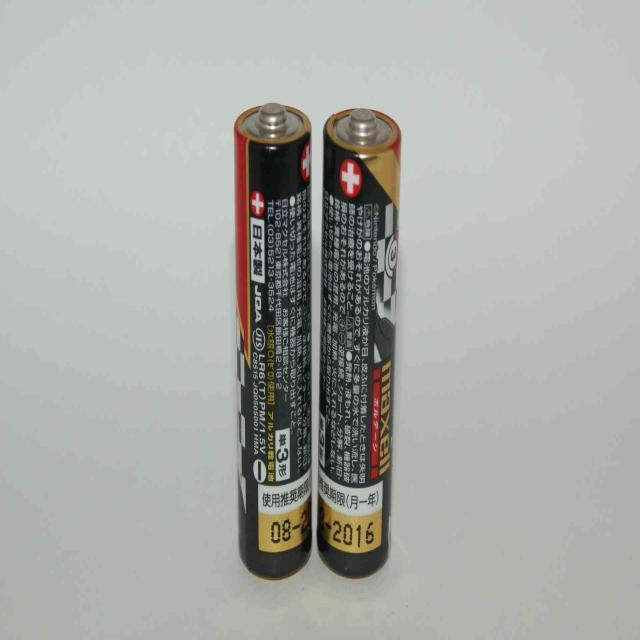Hazard: (316, 105, 404, 584), (232, 99, 318, 583)
